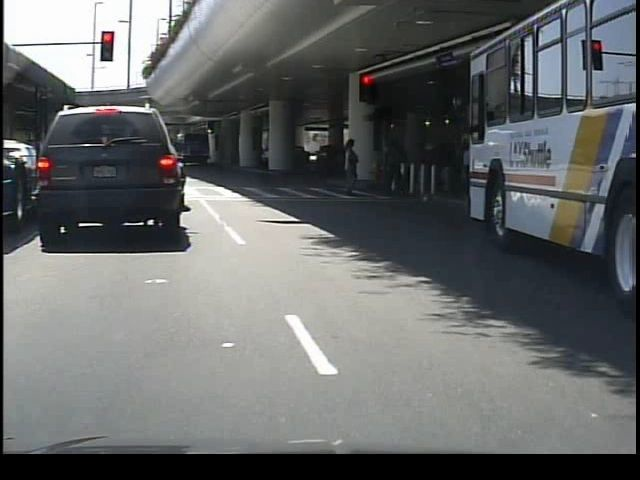person: (335, 136, 366, 199), (383, 139, 410, 194)
